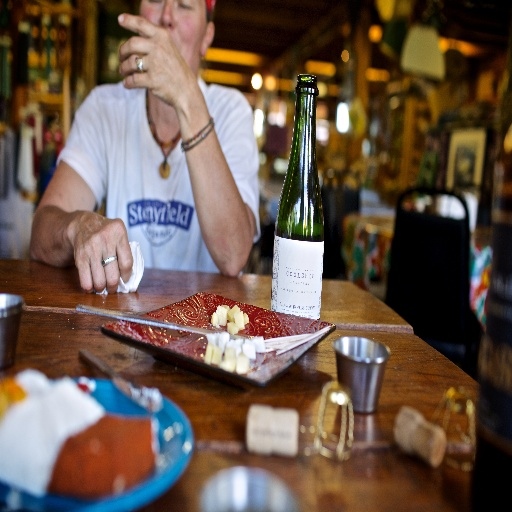hand: (116, 15, 211, 134), (70, 209, 134, 297)
